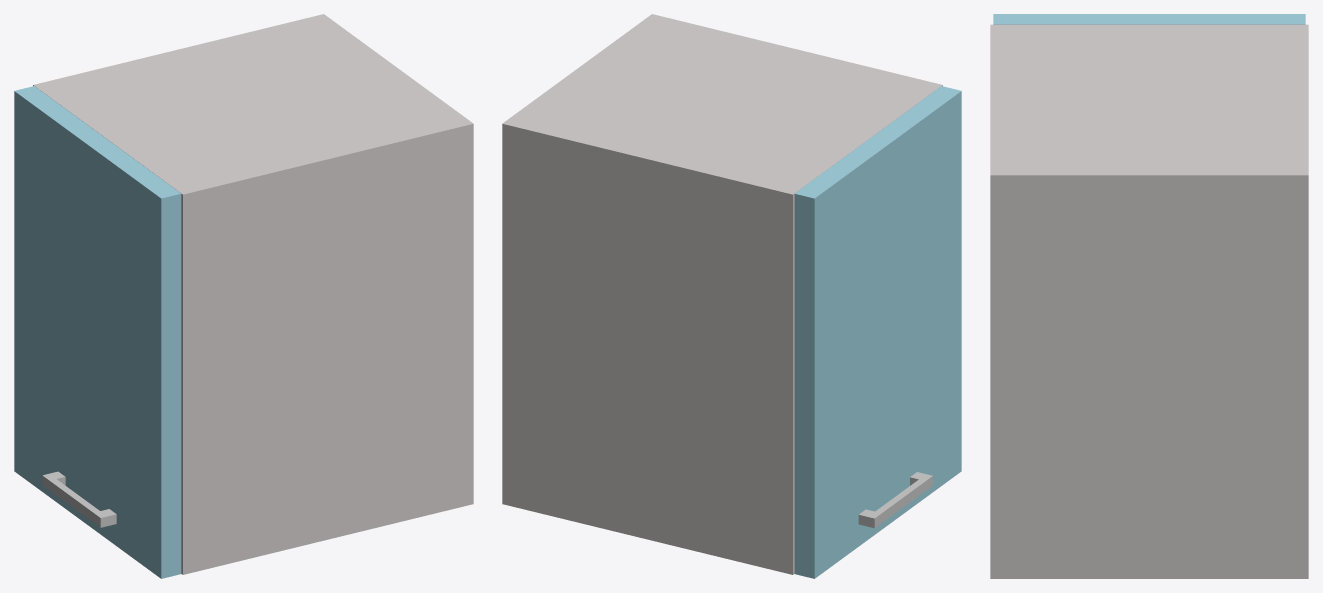
Rendered from Down_Counter.fbx.
3 renders of one model, left to right at view 1: azimuth 30°, elevation 25°; view 2: azimuth 150°, elevation 25°; view 3: azimuth 270°, elevation 25°, orthographic. The views are drawn at different scales.
Visible parts, largest first — view 1: Down_Counter, Door - Down_Counter; view 2: Down_Counter, Door - Down_Counter; view 3: Down_Counter, Door - Down_Counter.
Boxes of the visible parts, left/top/right/bottom form: Down_Counter: left=33, top=14, right=473, bottom=574; Door - Down_Counter: left=14, top=86, right=181, bottom=578; Down_Counter: left=502, top=14, right=942, bottom=574; Door - Down_Counter: left=794, top=86, right=961, bottom=578; Down_Counter: left=990, top=24, right=1308, bottom=578; Door - Down_Counter: left=993, top=14, right=1305, bottom=24.
Size of the model in its own units: 62.97 by 70 by 50.
